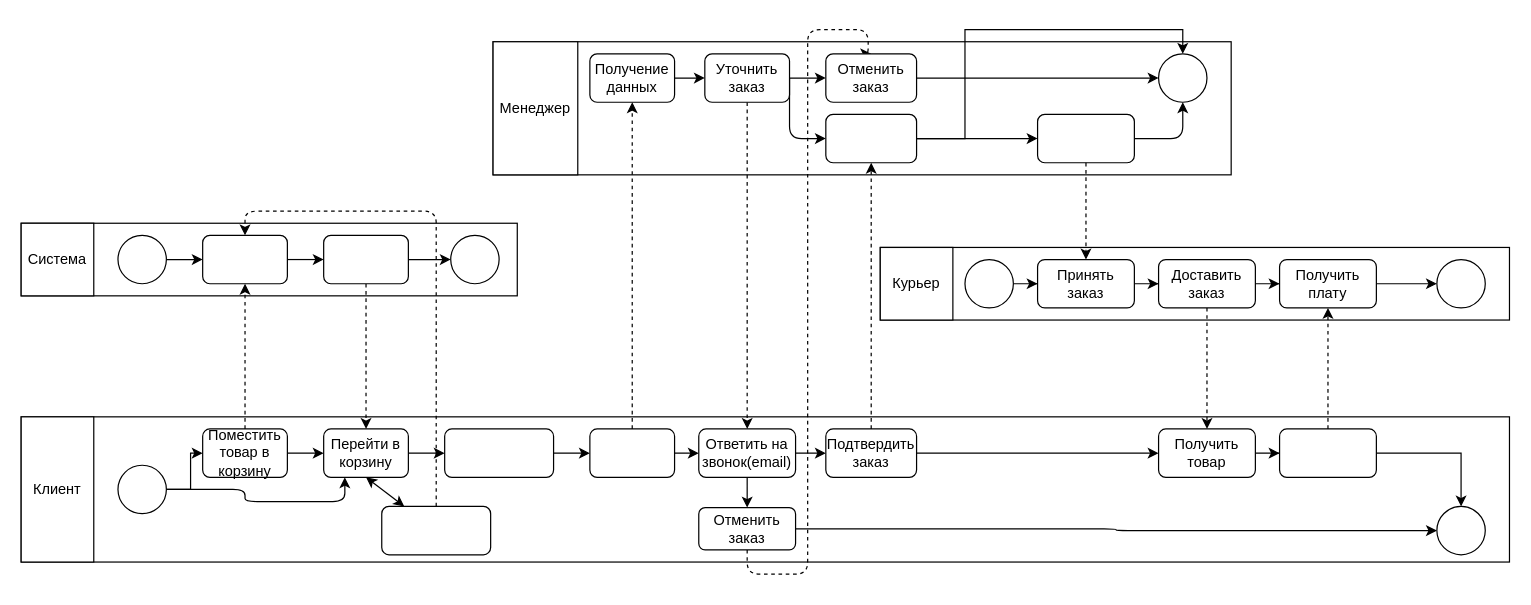
Image size: 1531x605. Some labels were removed from this diagram. The centre of each missing label's shape, as x and y in pixels:
Ввести персональные данные: the point at 498,452
Выставить счет: the point at 365,259
Назначить курьера: the point at 1085,138
Обновить стоимость: the point at 244,259
Оплатить товар: the point at 1327,452
Отправить заказ: the point at 632,452
Поставить заказ на выполнение: the point at 871,138
Удалить из корзины: the point at 436,530
